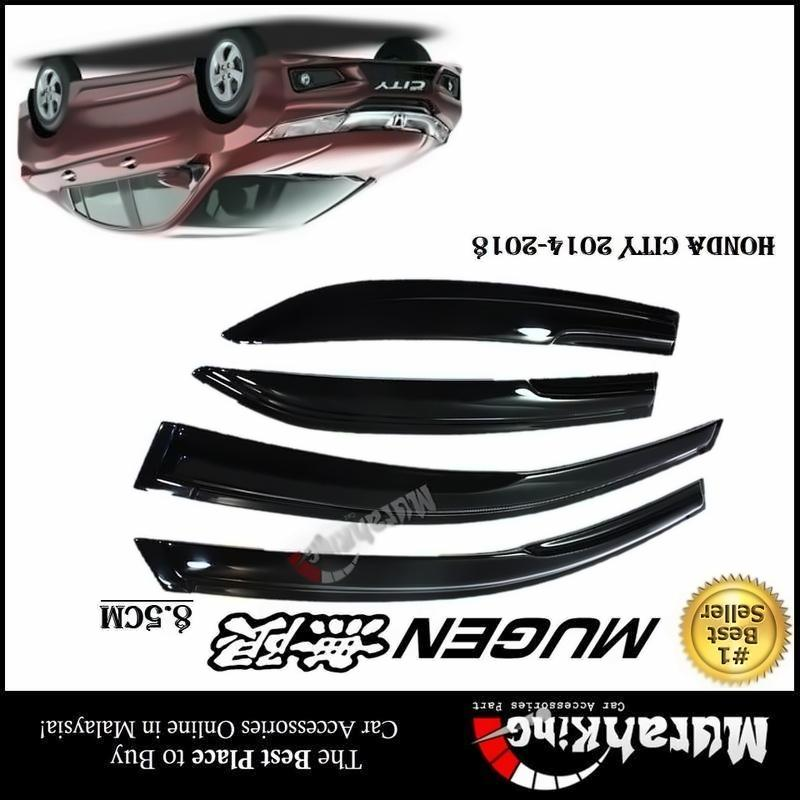Car hood: (216, 126, 444, 179)
Fender - -F-L-: (191, 57, 264, 181)
Fender - -R-L-: (27, 84, 67, 177)
Front bumper: (247, 46, 471, 121)
Headlight - -L-: (252, 105, 350, 149)
Headlight - -R-: (426, 116, 453, 147)
Passenger-s door - -F-L-: (120, 77, 210, 238)
Passenger-s door - -R-L-: (55, 86, 123, 236)
Rear bumper: (12, 96, 41, 151)
Rear light - -L-: (12, 157, 43, 191)
Side bumper - -L-: (56, 57, 206, 97)
Side mirror - -L-: (152, 152, 195, 195)
